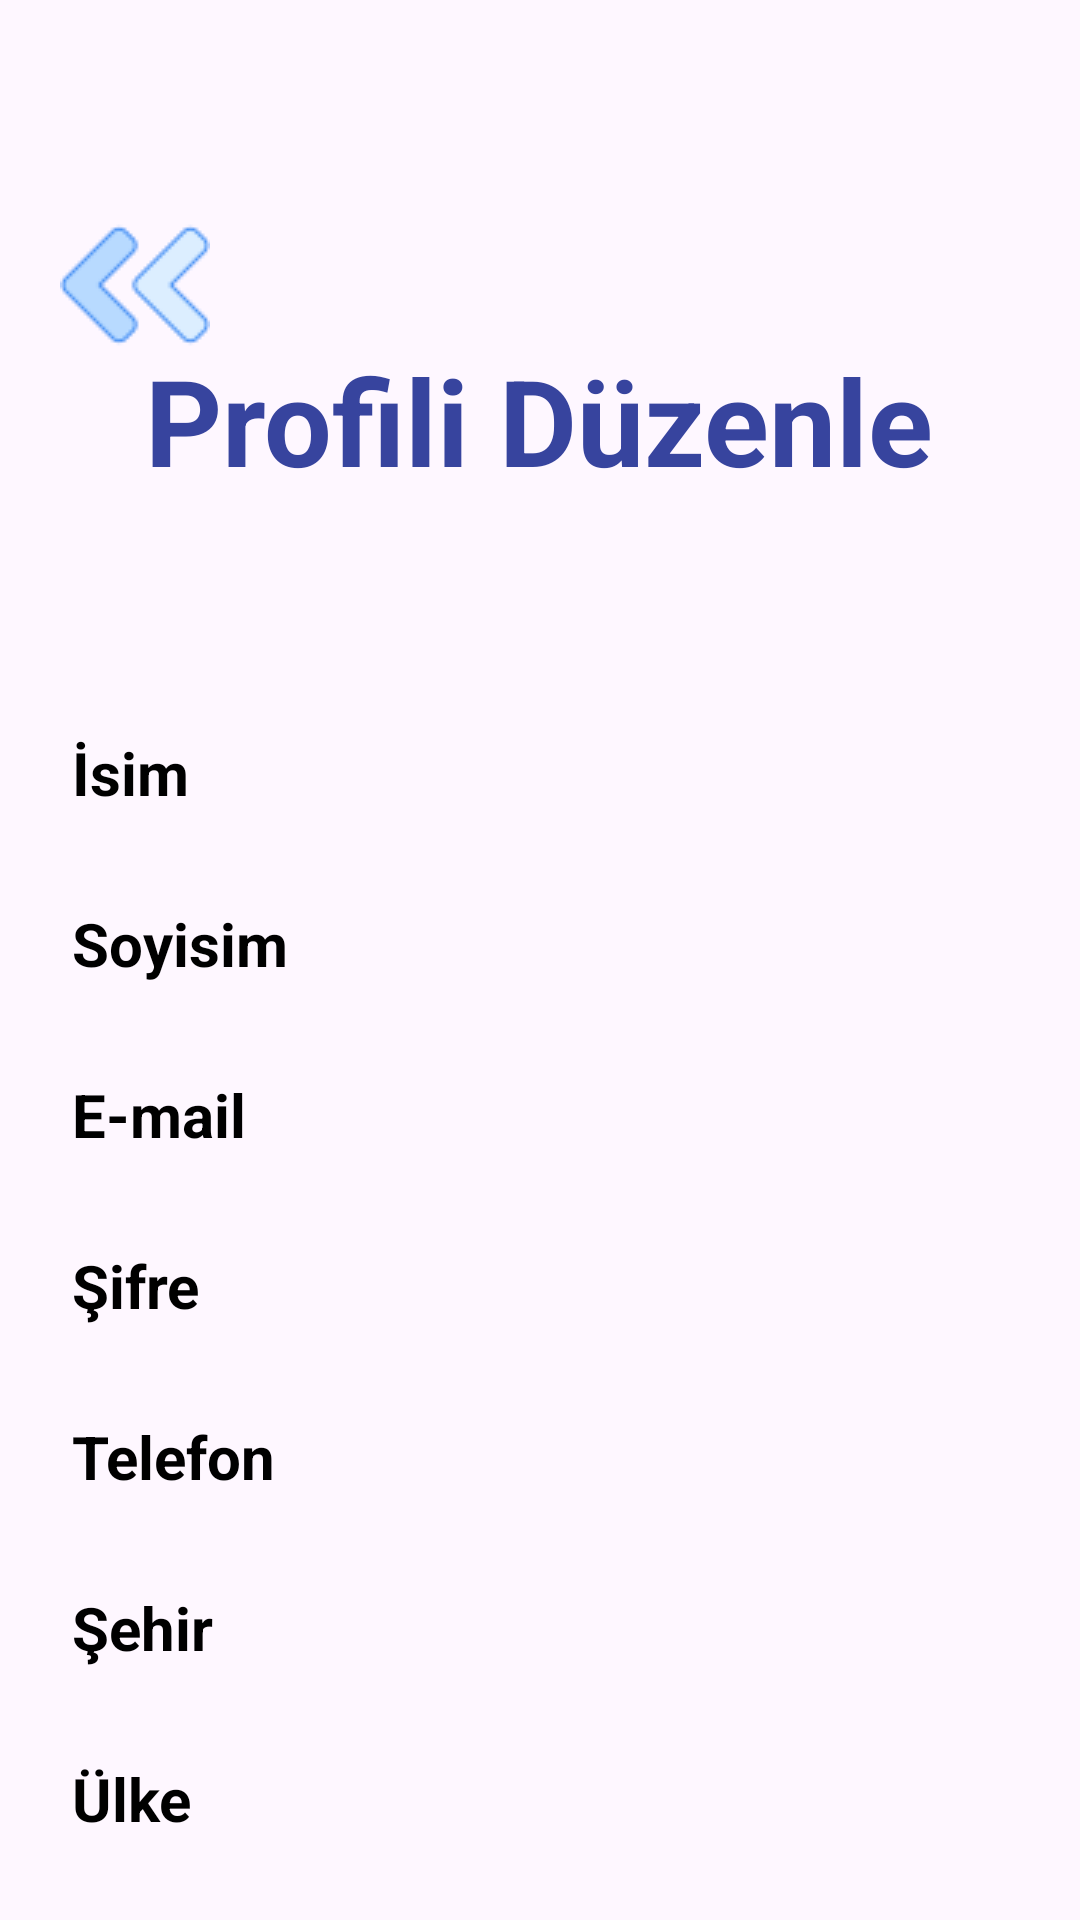

Named icons in this screenshot (1080w x 1920h) and their bounding boxes, (x1, y1, x2, y2):
back: (60, 226, 210, 343)
